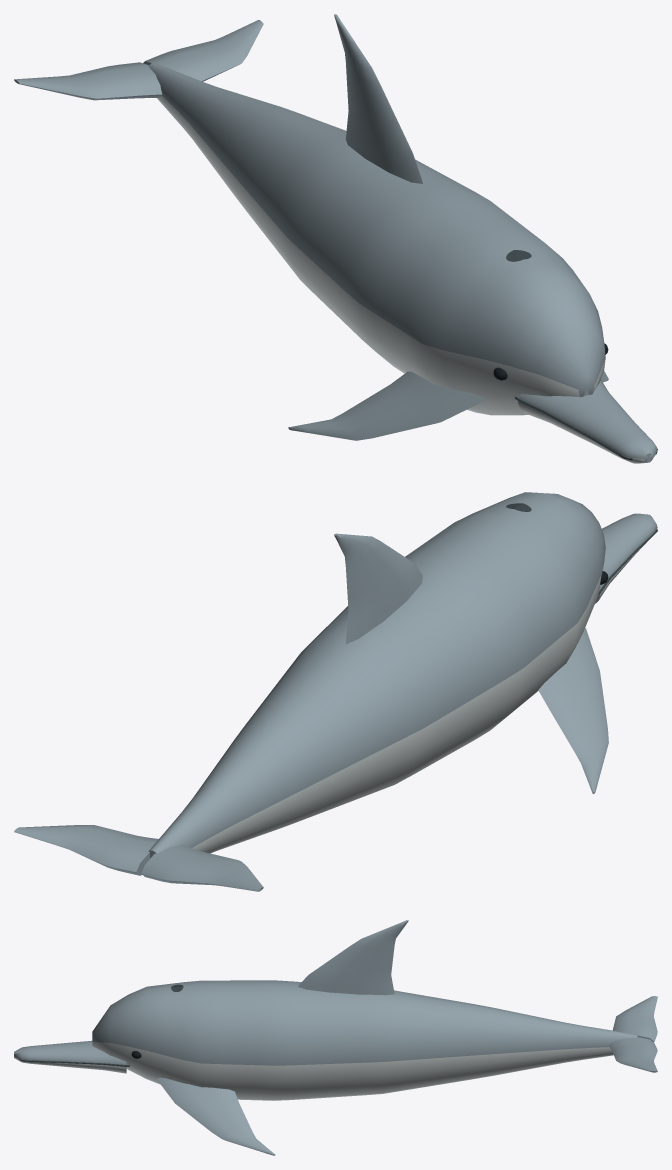
The picture shows the model from 3 angles, top to bottom: view 1: azimuth 30°, elevation 25°; view 2: azimuth 150°, elevation 25°; view 3: azimuth 270°, elevation 25°; orthographic projection. The views are drawn at different scales.
Visible parts, largest first — view 1: Body_complete_melon_belly_peduncle, Left_pectoral_flipper, Single_falcate_dorsal_fin, Short_rounded_rostrum, Left_horizontal_tail_fluke, Right_horizontal_tail_fluke; view 2: Body_complete_melon_belly_peduncle, Left_pectoral_flipper, Single_falcate_dorsal_fin, Right_horizontal_tail_fluke, Left_horizontal_tail_fluke, Short_rounded_rostrum; view 3: Body_complete_melon_belly_peduncle, Single_falcate_dorsal_fin, Right_pectoral_flipper, Short_rounded_rostrum, Left_horizontal_tail_fluke, Right_horizontal_tail_fluke.
Part boxes in pixels (left/top/right/bottom): Body_complete_melon_belly_peduncle: left=148, top=63, right=605, bottom=415; Left_pectoral_flipper: left=288, top=371, right=484, bottom=440; Single_falcate_dorsal_fin: left=334, top=14, right=422, bottom=183; Short_rounded_rostrum: left=518, top=380, right=657, bottom=463; Left_horizontal_tail_fluke: left=14, top=62, right=162, bottom=100; Right_horizontal_tail_fluke: left=143, top=20, right=263, bottom=81; Body_complete_melon_belly_peduncle: left=148, top=492, right=605, bottom=858; Left_pectoral_flipper: left=538, top=628, right=608, bottom=793; Single_falcate_dorsal_fin: left=334, top=533, right=422, bottom=644; Right_horizontal_tail_fluke: left=14, top=825, right=158, bottom=875; Left_horizontal_tail_fluke: left=141, top=845, right=263, bottom=891; Short_rounded_rostrum: left=595, top=513, right=657, bottom=603; Body_complete_melon_belly_peduncle: left=92, top=980, right=637, bottom=1100; Single_falcate_dorsal_fin: left=298, top=920, right=408, bottom=995; Right_pectoral_flipper: left=157, top=1077, right=275, bottom=1155; Short_rounded_rostrum: left=14, top=1040, right=126, bottom=1073; Left_horizontal_tail_fluke: left=612, top=996, right=657, bottom=1042; Right_horizontal_tail_fluke: left=608, top=1037, right=657, bottom=1072.
Bounding box in the file's own units: 0.96 × 0.9029 × 2.8.
